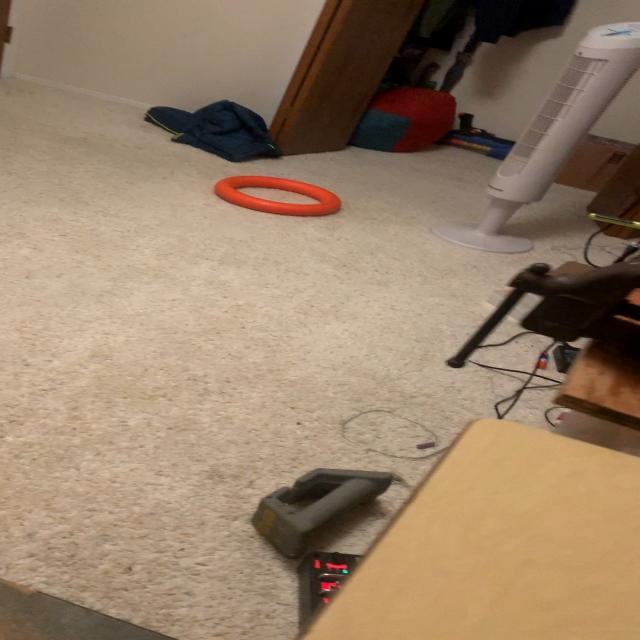notes: (219, 178, 341, 217)
